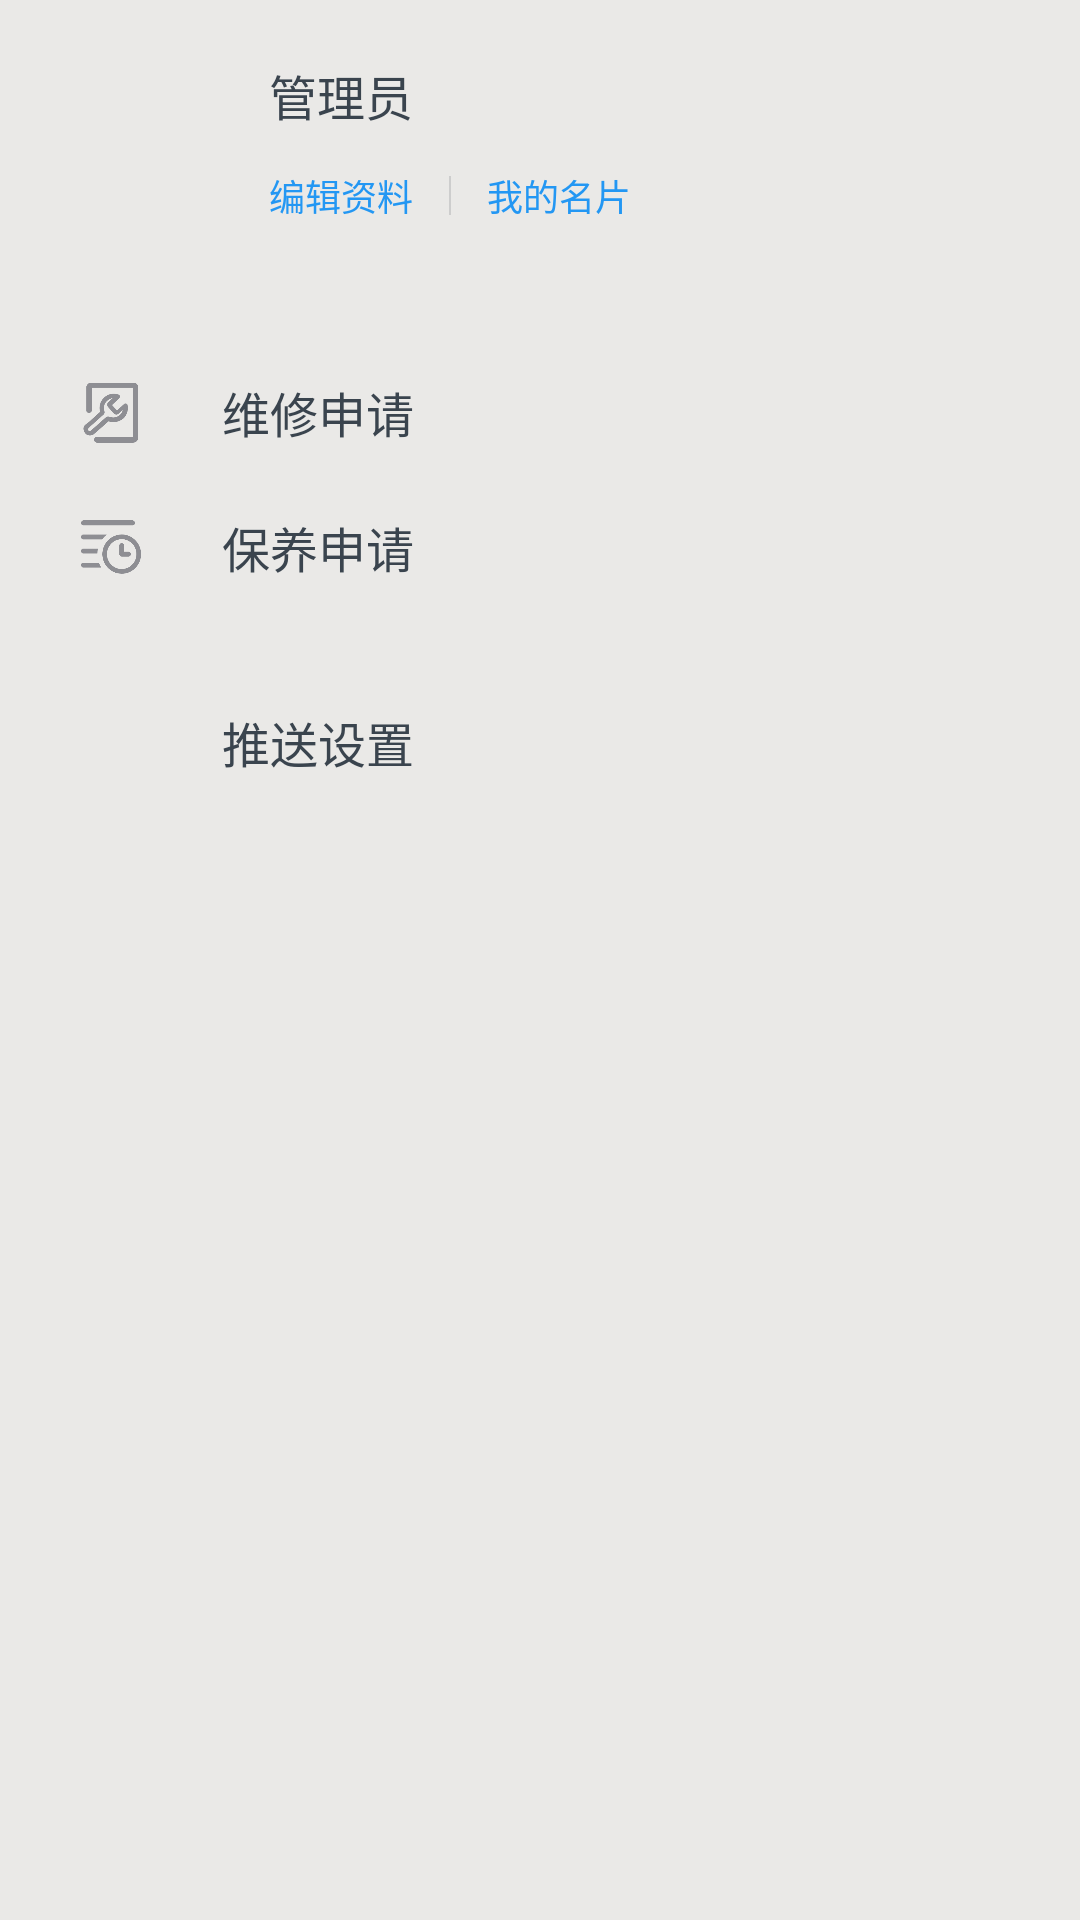

Locate icon controls on the screen. Image size 1080 x 1920, boxes as bbox=[x1, y1, x2, y2].
repair: bbox=[83, 383, 138, 443]
